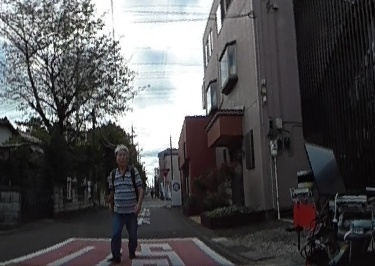person: (109, 140, 138, 263)
